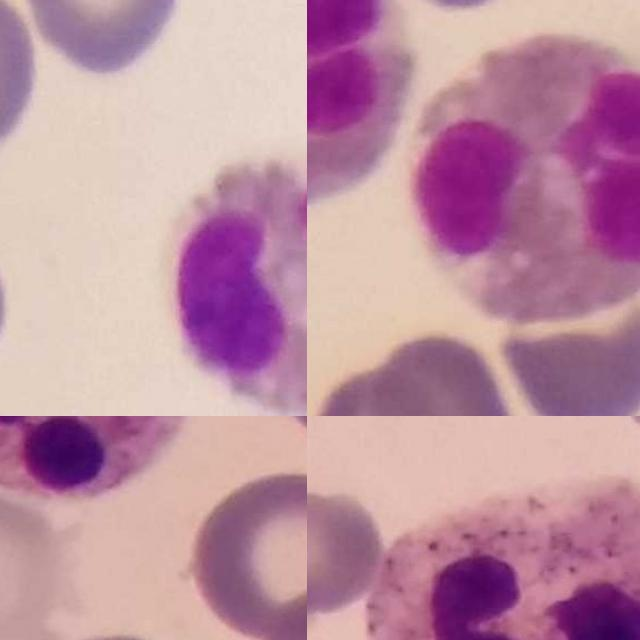Eosinophil: (412, 33, 640, 327), (170, 163, 307, 416), (307, 0, 411, 215)
Neutrophil: (367, 475, 640, 640), (0, 416, 190, 504)
